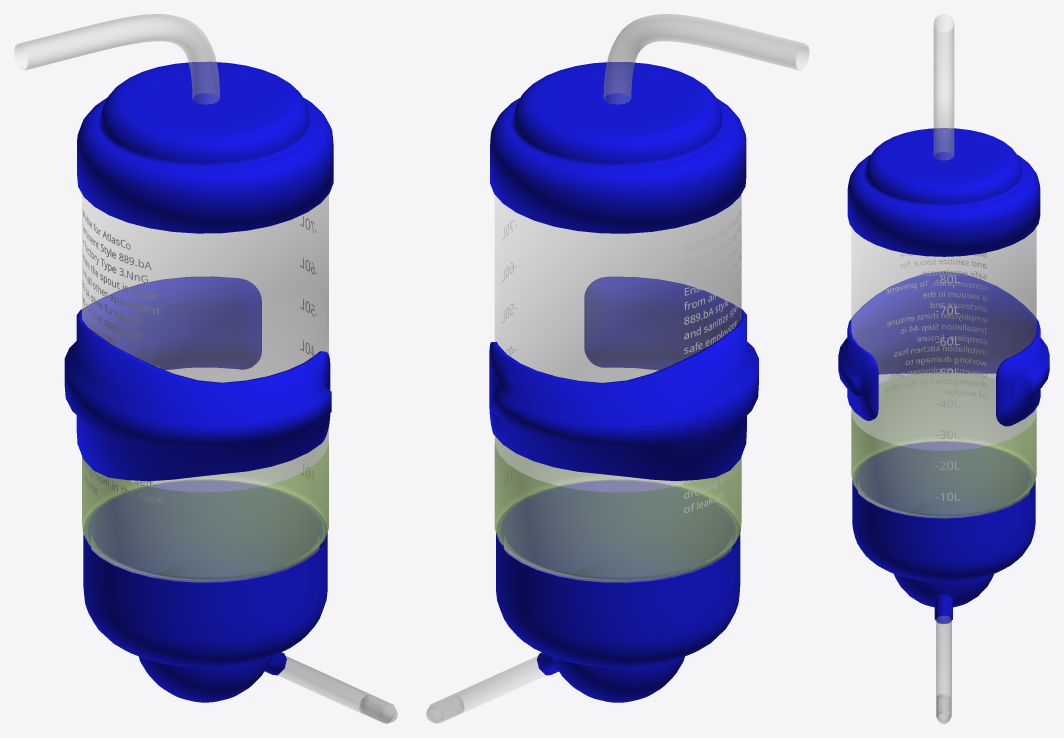
The model's file is water_feeder_top_tube.glb.
The picture shows the model from 3 angles, left to right: view 1: azimuth 30°, elevation 25°; view 2: azimuth 150°, elevation 25°; view 3: azimuth 270°, elevation 25°; orthographic projection. The views are drawn at different scales.
Visible parts, largest first — view 1: Cylinder.008; view 2: Cylinder.008; view 3: Cylinder.008.
Boxes of the visible parts, bbox=[...] form: Cylinder.008: bbox=[14, 14, 397, 723]; Cylinder.008: bbox=[426, 14, 809, 723]; Cylinder.008: bbox=[838, 14, 1049, 723].
Bounding box in the file's own units: 0.5342 × 1.04 × 0.3477.
4 materials, 1 textured.
